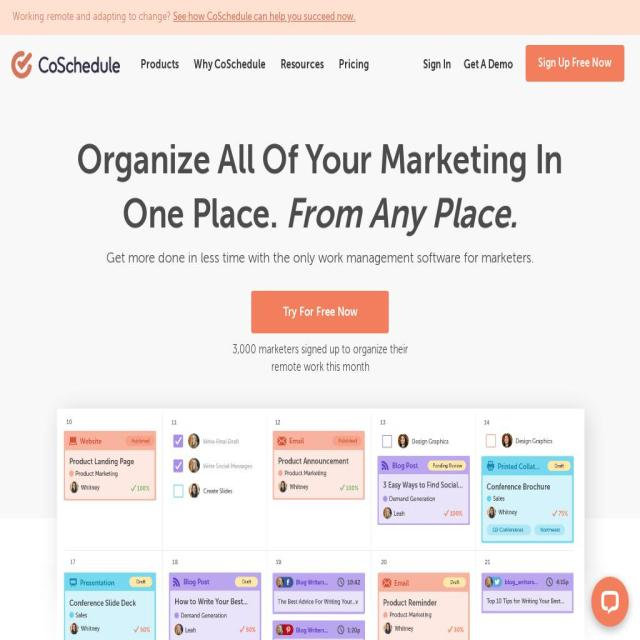button: (0, 35, 131, 94), (251, 291, 389, 333), (187, 51, 272, 96), (526, 45, 624, 82), (520, 51, 630, 80), (274, 51, 330, 96), (134, 51, 185, 96), (251, 305, 389, 318)
heading: (76, 141, 563, 237), (285, 195, 517, 237)
iframe: (581, 570, 634, 640)
image: (23, 368, 617, 640), (481, 456, 574, 543), (64, 431, 156, 501), (273, 431, 365, 501), (378, 456, 470, 526), (64, 572, 156, 640), (169, 572, 261, 640), (378, 572, 470, 640), (9, 48, 122, 82), (481, 573, 574, 614), (273, 573, 365, 614), (481, 431, 574, 452), (169, 431, 261, 452), (169, 481, 261, 502), (378, 431, 470, 452), (169, 456, 261, 476), (273, 620, 365, 640)
link: (464, 60, 513, 102), (173, 12, 356, 22), (339, 60, 369, 102), (423, 60, 451, 102)
text: (67, 248, 573, 270), (226, 342, 414, 376), (13, 12, 173, 22)
